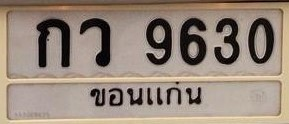txt01: (36, 18, 72, 69)
txt32: (78, 16, 113, 68)
